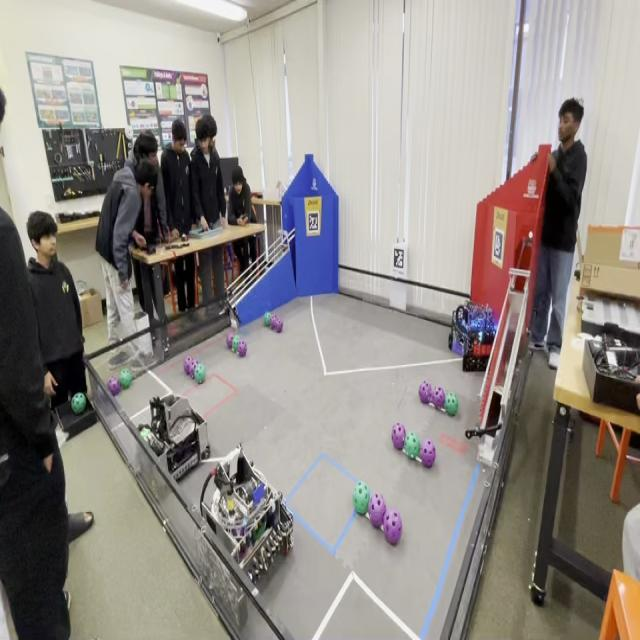artifact_green: (353, 482, 370, 515), (404, 432, 420, 458), (444, 393, 458, 417), (71, 393, 86, 415), (108, 376, 121, 395), (120, 369, 133, 388), (194, 363, 205, 383), (238, 340, 247, 358), (232, 336, 240, 353), (140, 427, 150, 440), (264, 312, 271, 328), (226, 334, 233, 349)
artifact_purple: (368, 494, 386, 528), (384, 509, 401, 545), (420, 439, 435, 468), (392, 424, 405, 450), (419, 381, 433, 404), (432, 387, 445, 408), (108, 377, 121, 395), (186, 360, 197, 379), (191, 361, 201, 379), (184, 356, 193, 374), (274, 317, 283, 333), (238, 341, 247, 357), (226, 333, 234, 350), (271, 315, 277, 329)
